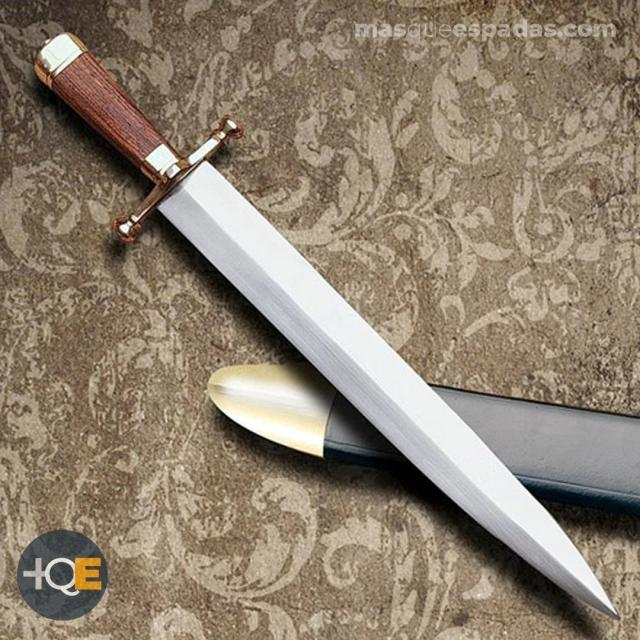short sword: (21, 21, 640, 630)
